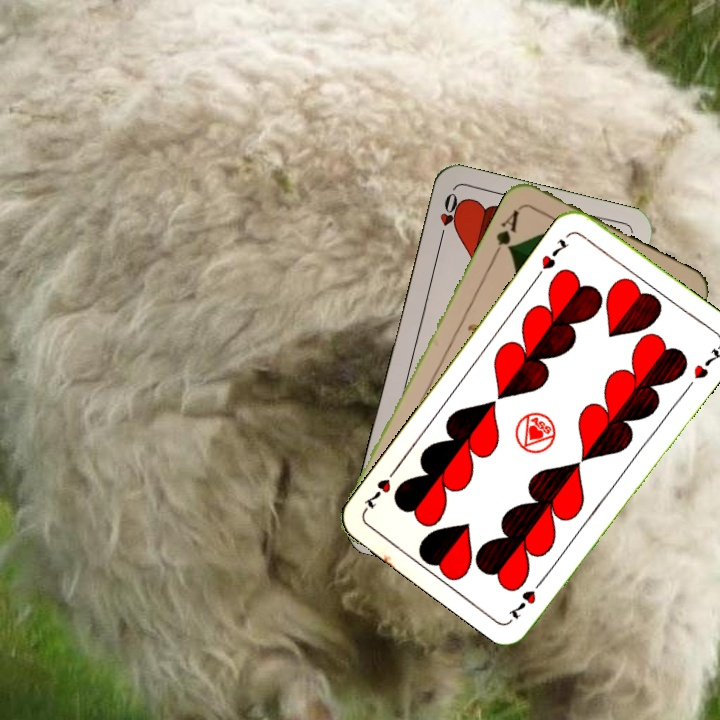GA: (489, 204, 523, 259)
H7: (506, 573, 548, 622), (532, 234, 572, 281)
HO: (435, 188, 462, 247)
